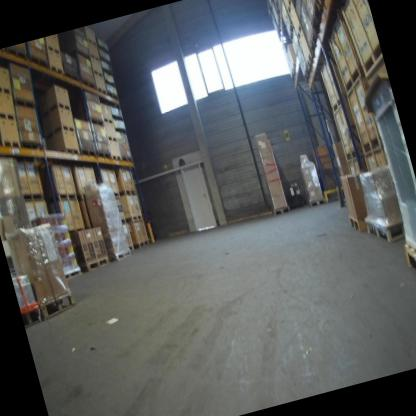pallet: (361, 207, 408, 250), (352, 40, 387, 80), (39, 291, 77, 319), (339, 66, 368, 98), (401, 238, 416, 299), (19, 301, 46, 333), (17, 130, 46, 159), (11, 87, 37, 117), (306, 26, 325, 61), (308, 0, 325, 39), (41, 98, 72, 118), (46, 189, 79, 207), (44, 122, 77, 140), (79, 255, 111, 273), (358, 134, 384, 156), (5, 44, 28, 66), (26, 52, 49, 74), (348, 210, 367, 235), (331, 92, 351, 115), (20, 188, 46, 205), (107, 247, 133, 264), (303, 51, 319, 78), (41, 36, 61, 57), (62, 67, 81, 88), (342, 145, 363, 163), (0, 134, 21, 152), (284, 19, 298, 45), (60, 142, 81, 159), (79, 75, 96, 93), (78, 144, 97, 160), (48, 61, 64, 79), (300, 64, 313, 86), (63, 267, 83, 281), (318, 0, 335, 16), (95, 146, 112, 162), (87, 113, 104, 129), (0, 107, 16, 124), (124, 212, 144, 225), (272, 204, 291, 217), (118, 186, 137, 199), (308, 196, 326, 209), (292, 23, 305, 41), (132, 238, 151, 250), (105, 87, 119, 103), (101, 112, 115, 127), (111, 112, 125, 126), (109, 151, 123, 164), (85, 36, 98, 50), (290, 60, 300, 78), (0, 80, 12, 95), (285, 0, 295, 16), (105, 133, 118, 145), (91, 66, 104, 78), (114, 124, 127, 136), (289, 70, 298, 87), (120, 153, 133, 164), (95, 83, 106, 96), (89, 51, 100, 63), (120, 216, 127, 226), (113, 191, 120, 200), (128, 244, 135, 252)
